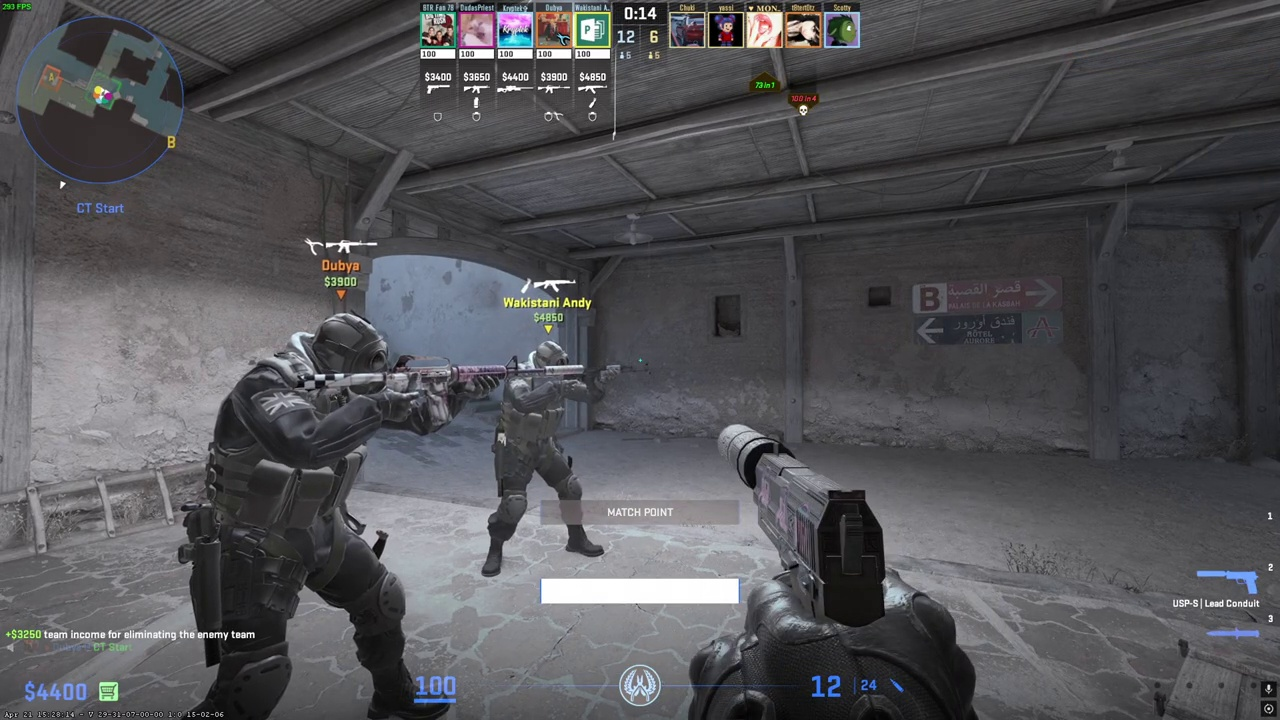CT: (190, 308, 438, 720), (486, 339, 602, 573)
